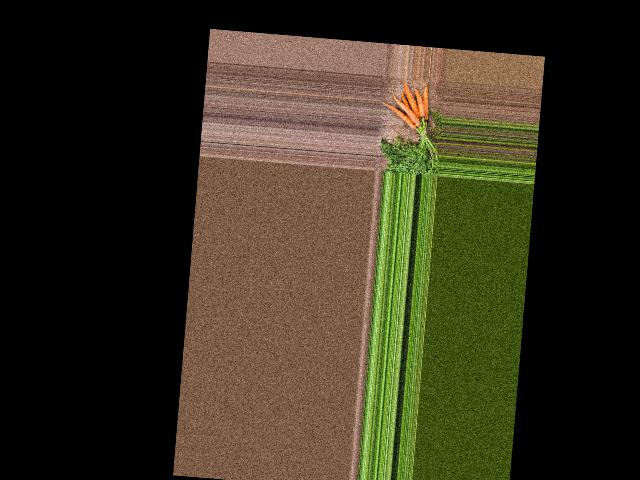carrot: (410, 87, 431, 121)
